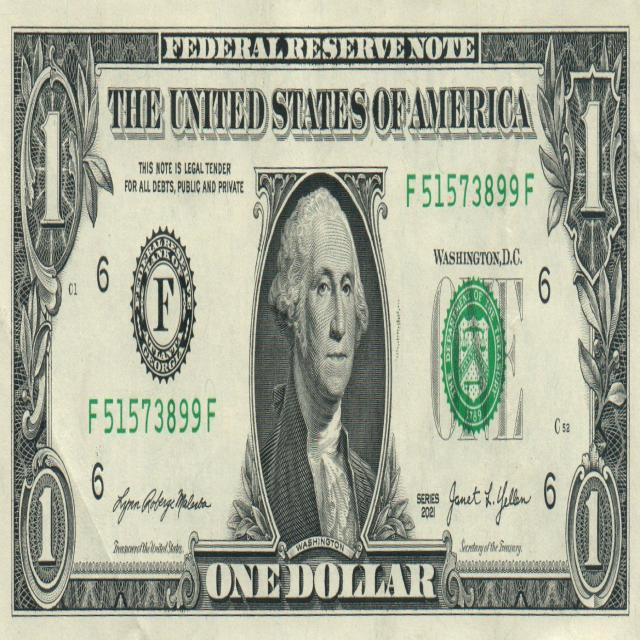SerialNumber: (407, 173, 534, 207), (89, 399, 215, 433)
